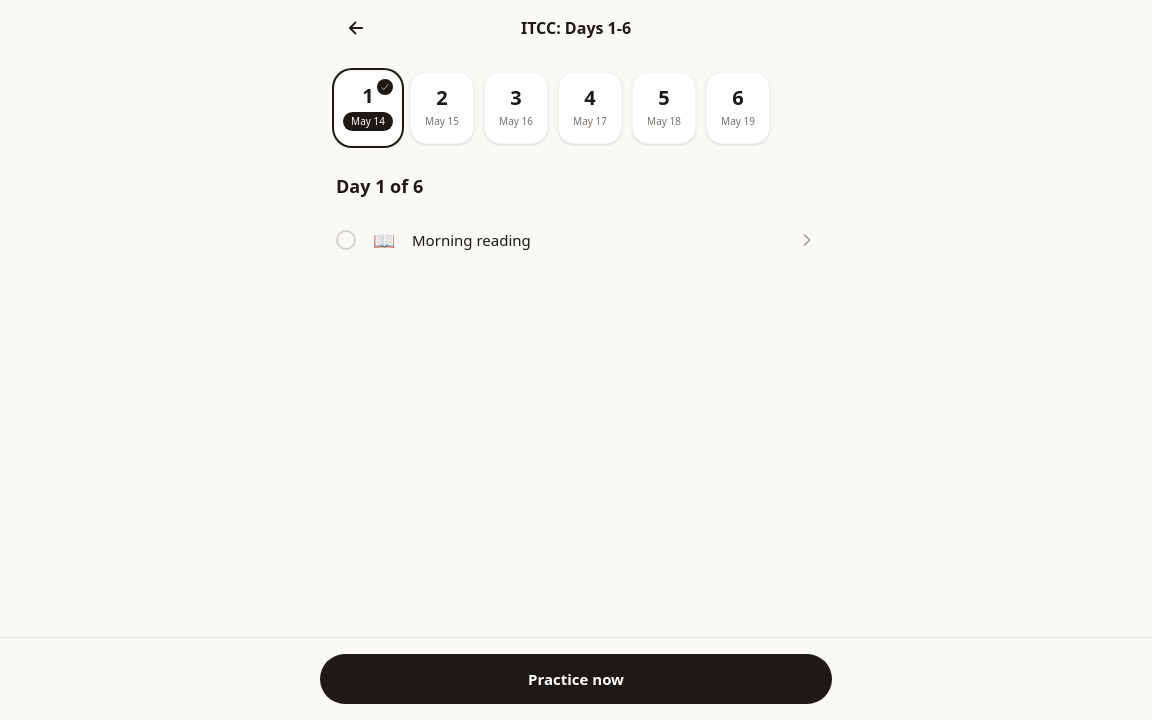
Test case: Planviewer › opens daily content when a plan row is selected
The width and height of the screenshot is (1152, 720).
Expected: the heading "ITCC: Days 1-6" is shown, [521,16,631,40]
Expected: the text "Morning reading" is shown, [412,230,531,250]
Click the button "📖 Morning reading" at (471, 240), box [336,224,816,256]
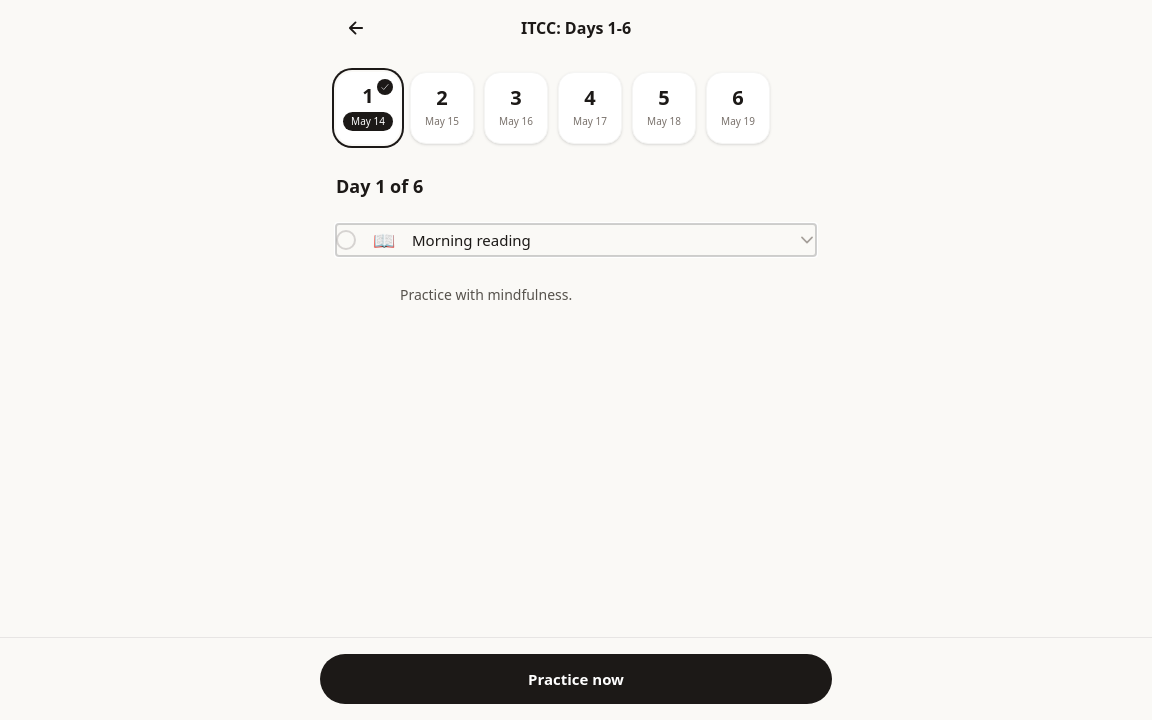
Expected: the text "Practice with mindfulness." is shown, [400,285,572,304]
